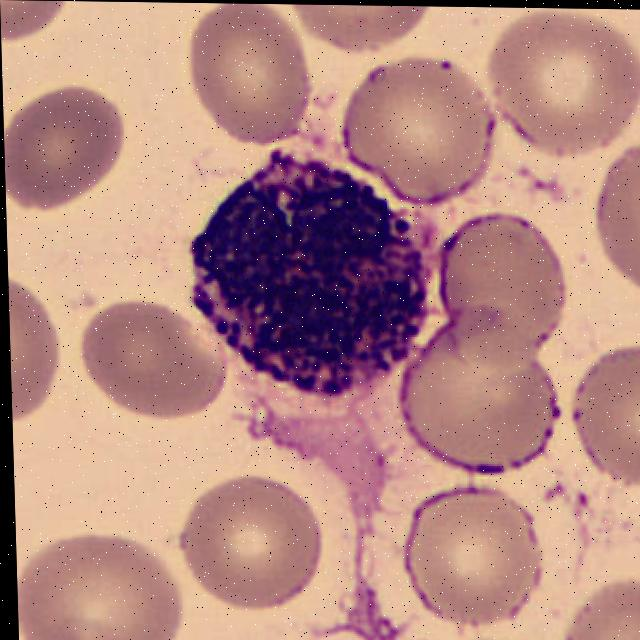basophil: (196, 164, 428, 408)
rbc: (395, 477, 555, 618), (174, 3, 324, 152), (184, 467, 337, 612), (73, 289, 237, 424), (394, 342, 557, 472), (495, 14, 637, 155), (355, 62, 491, 201), (444, 223, 572, 369), (16, 539, 184, 640), (3, 90, 130, 216), (563, 356, 640, 498), (8, 276, 67, 442), (307, 5, 442, 62), (590, 147, 640, 295), (546, 573, 640, 640), (0, 0, 82, 63)
